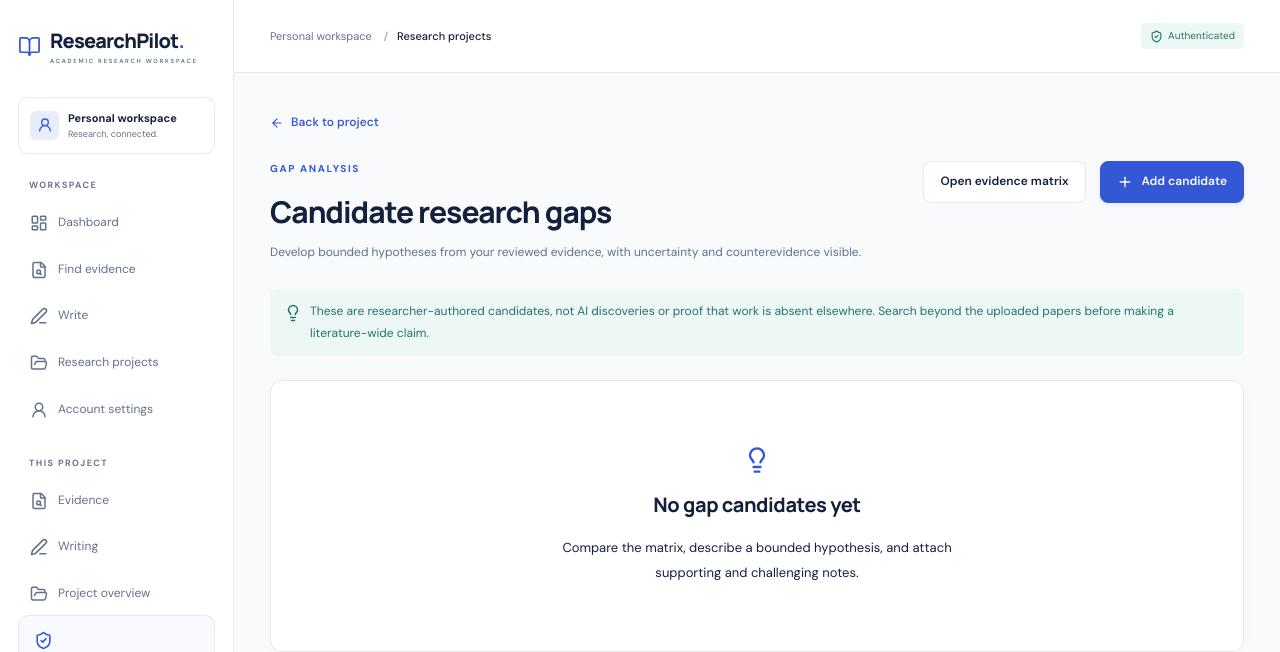
Test: labels one-paper coverage and keeps candidate claims linked to matrix and PDF evidence
Click the button "Add candidate": (1172, 182) [1100,161,1244,203]
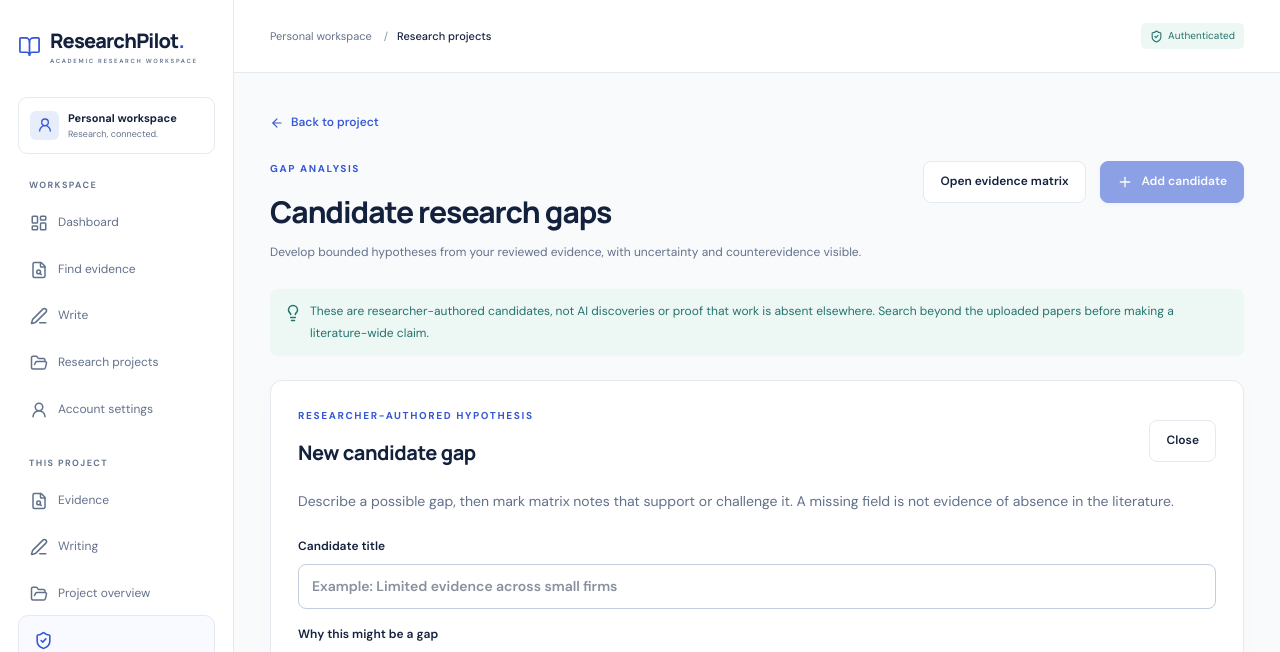
In the field labelled "Candidate title": (757, 586) [298,564,1216,609], type "Possible context gap"
(page scrolled)
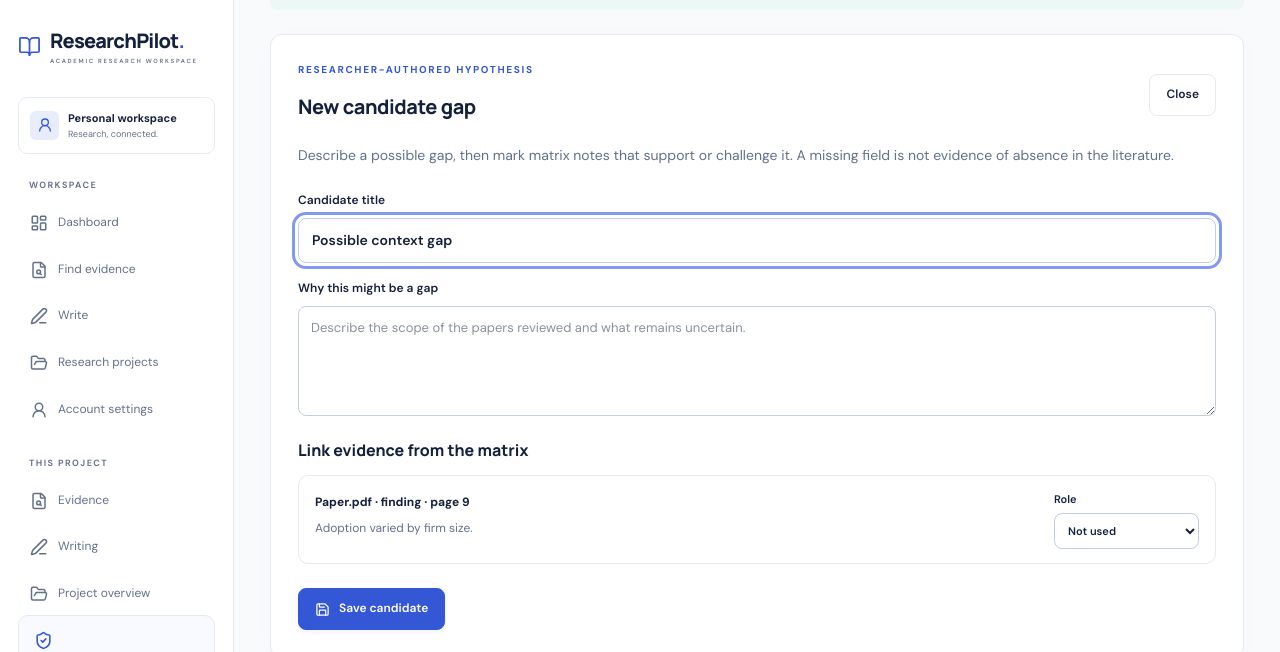
In the text box labelled "Why this might be a gap": (757, 361) [298,306,1216,416], type "Only the reviewed paper covers this context."
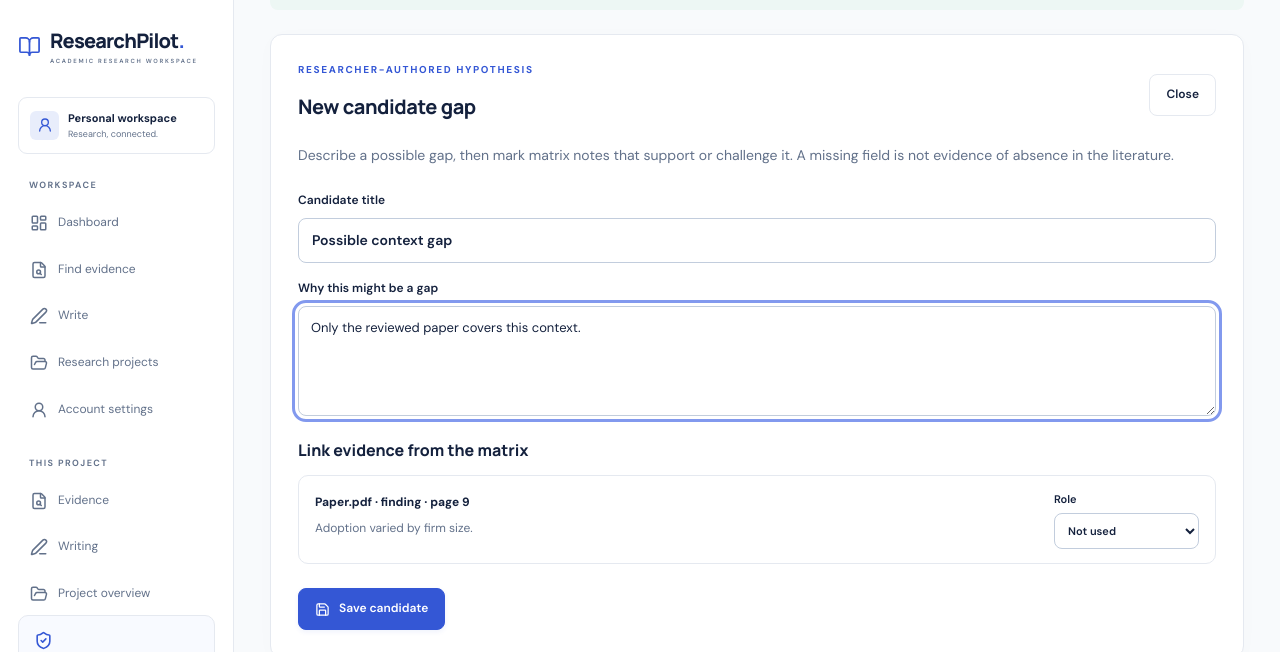
Select "Supports" in the dropdown named "Evidence role for Paper.pdf finding": (1126, 531) [1054,513,1199,549]
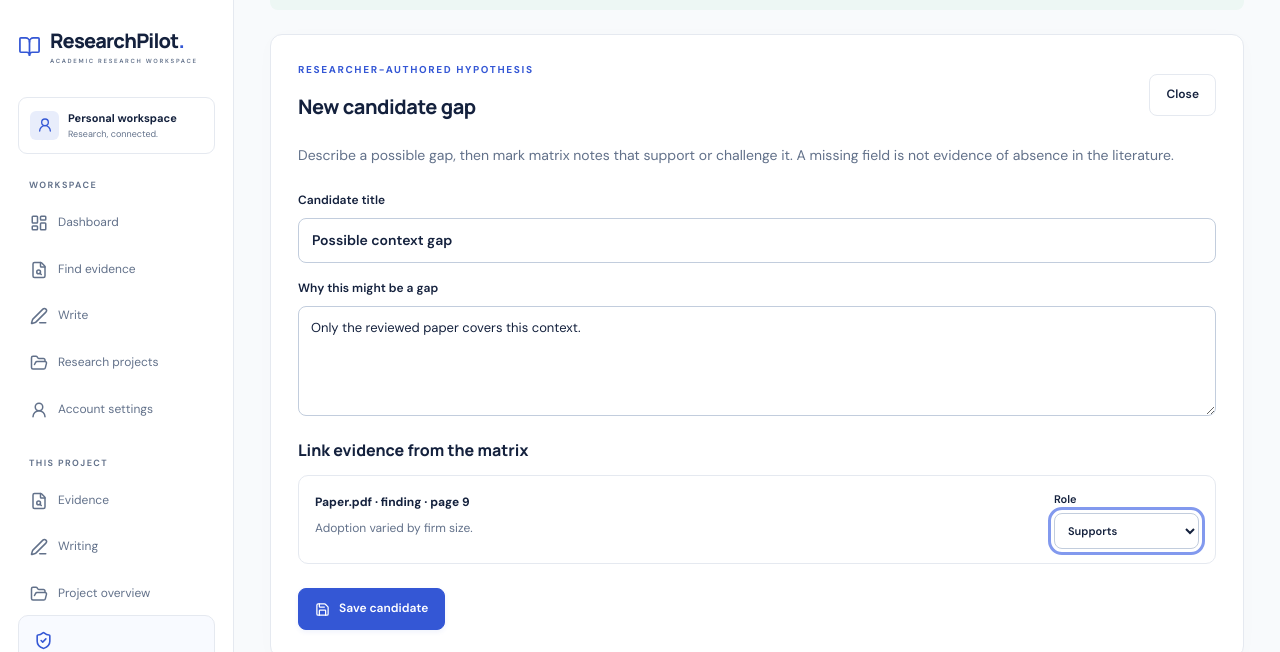
Click the button "Save candidate": (372, 609) [298,588,445,630]
(page scrolled)
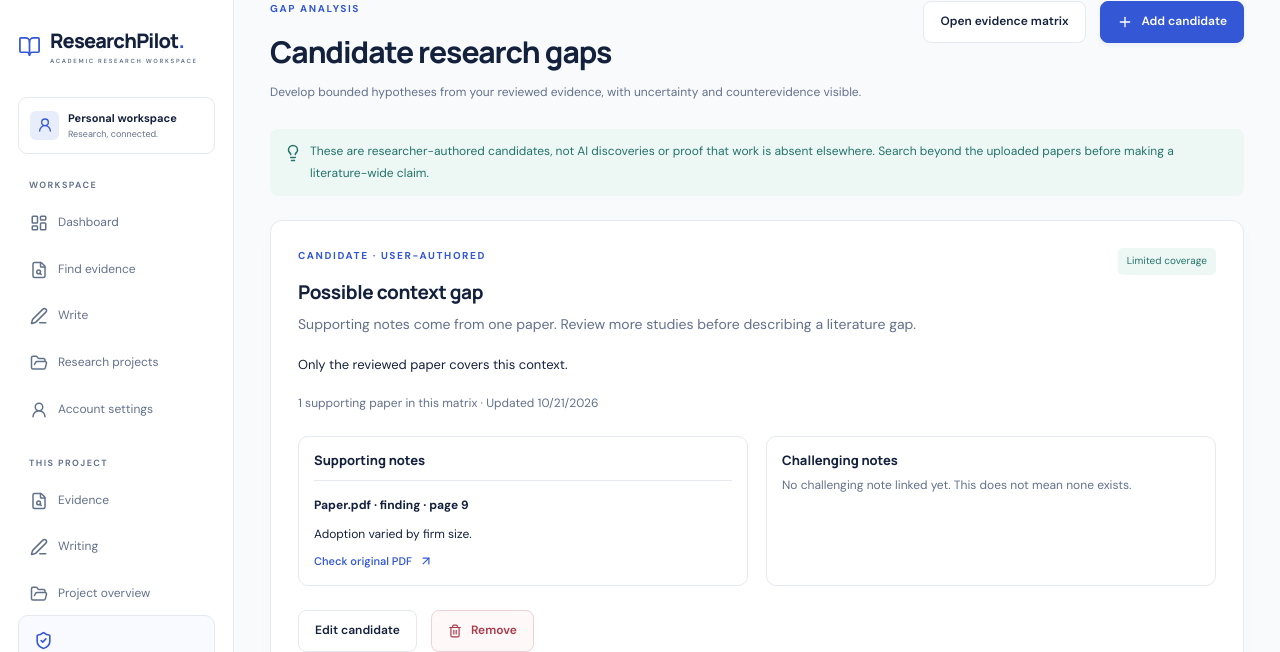
Expected: the text "Limited coverage" is shown, [1118,248,1216,275]
Expected: the text "Supporting notes come from one paper" is shown, [298,315,916,333]
